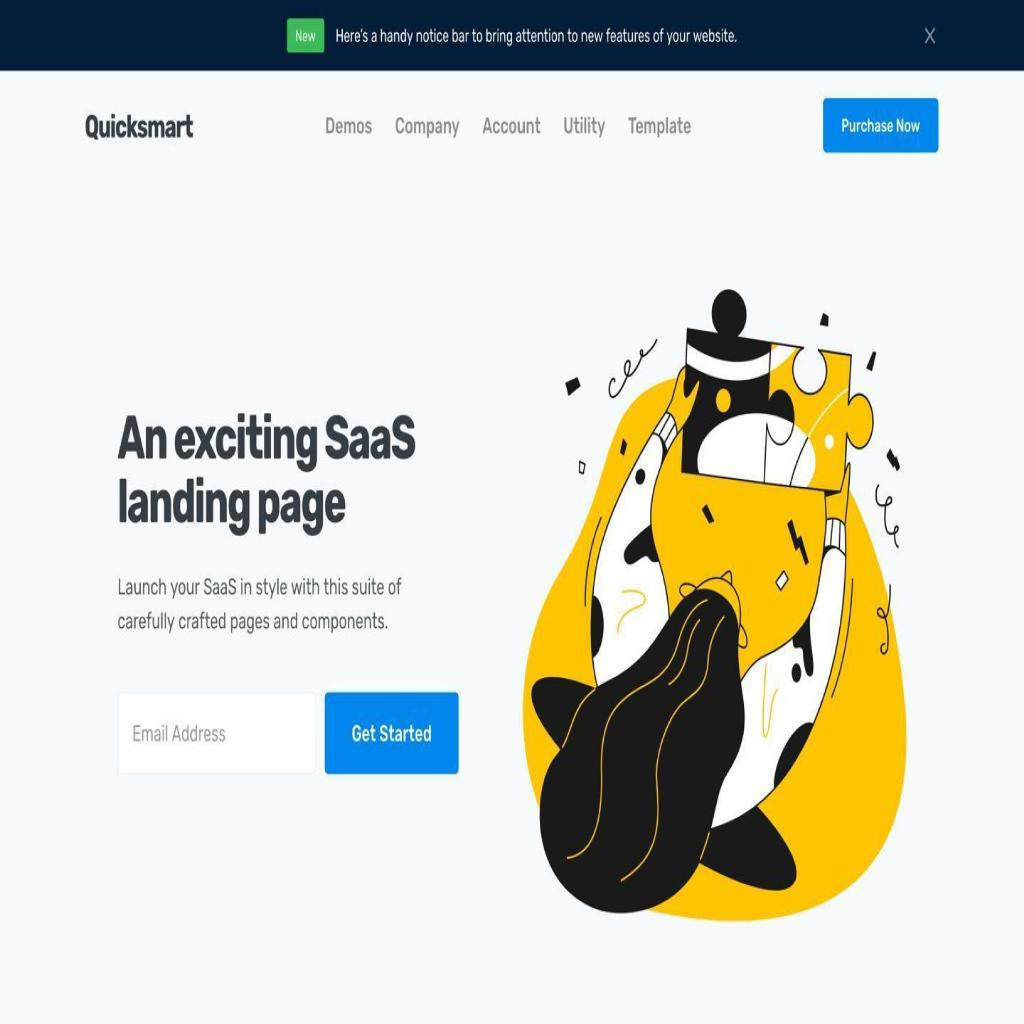button: (325, 691, 459, 776), (822, 96, 940, 154), (286, 16, 326, 55)
icon: (921, 23, 939, 52)
input: (118, 692, 316, 772)
label: (116, 412, 416, 539), (395, 115, 459, 139), (628, 116, 692, 138), (480, 116, 541, 134), (564, 112, 606, 138), (325, 114, 373, 136)
